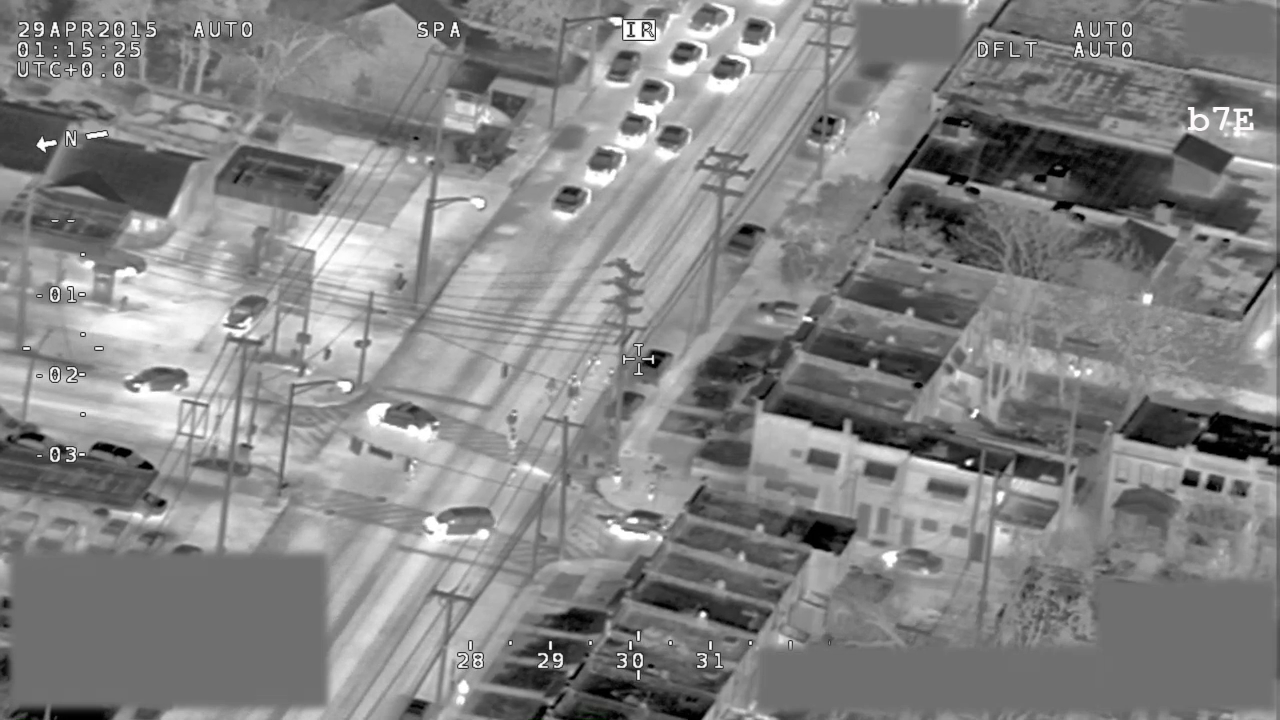vehicle: (365, 390, 444, 441), (417, 500, 497, 545), (217, 291, 274, 333), (684, 3, 742, 42), (604, 507, 675, 538), (2, 428, 70, 460), (627, 77, 680, 118), (121, 364, 191, 395), (85, 438, 157, 467), (704, 53, 754, 94), (663, 39, 711, 81), (805, 110, 851, 153), (582, 142, 629, 184), (724, 221, 764, 269), (649, 120, 699, 158), (633, 342, 676, 385), (635, 3, 675, 46), (732, 17, 778, 54), (881, 545, 944, 572), (549, 183, 595, 219), (615, 109, 655, 149), (602, 49, 643, 88), (608, 388, 649, 424)
